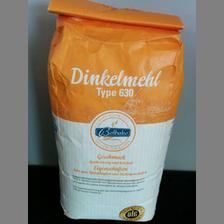Mehl: (46, 0, 184, 224)
